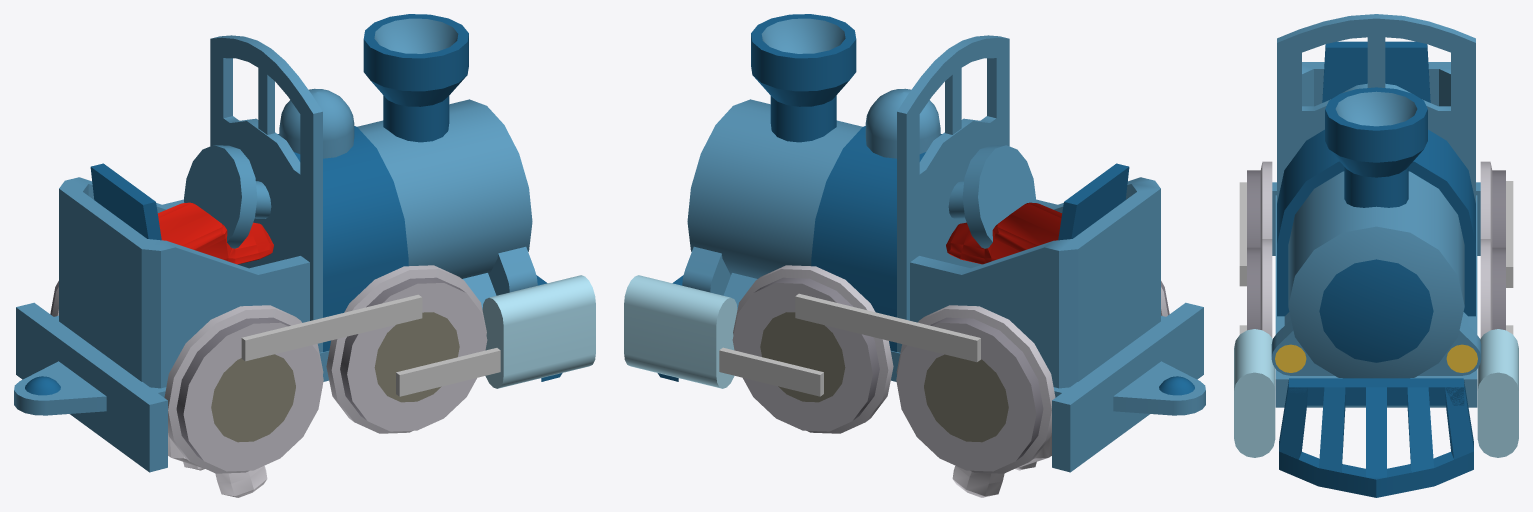
Rendered from LocomotiveV4 (1).fbx.
3 views of the same model, side by side, from view 1: azimuth 30°, elevation 25°; view 2: azimuth 150°, elevation 25°; view 3: azimuth 270°, elevation 25° (orthographic). The views are drawn at different scales.
Visible parts, largest first — view 1: Train_B_Color, Charcter5, Coupling_rod_1, Coupling_rod_2; view 2: Train_B_Color, Charcter5, Coupling_rod_3, Coupling_rod_4; view 3: Train_B_Color, Coupling_rod_3, Coupling_rod_1.
Part boxes in pixels (x1,y1,x2,y2): Train_B_Color: [14, 14, 595, 473]; Charcter5: [157, 202, 273, 497]; Coupling_rod_1: [241, 294, 422, 361]; Coupling_rod_2: [396, 348, 500, 396]; Train_B_Color: [624, 14, 1205, 473]; Charcter5: [946, 202, 1062, 497]; Coupling_rod_3: [795, 293, 980, 362]; Coupling_rod_4: [719, 347, 823, 396]; Train_B_Color: [1234, 14, 1518, 497]; Coupling_rod_3: [1506, 181, 1513, 287]; Coupling_rod_1: [1239, 182, 1246, 286].
Bounding box in the file's own units: 330 × 239 × 152.
